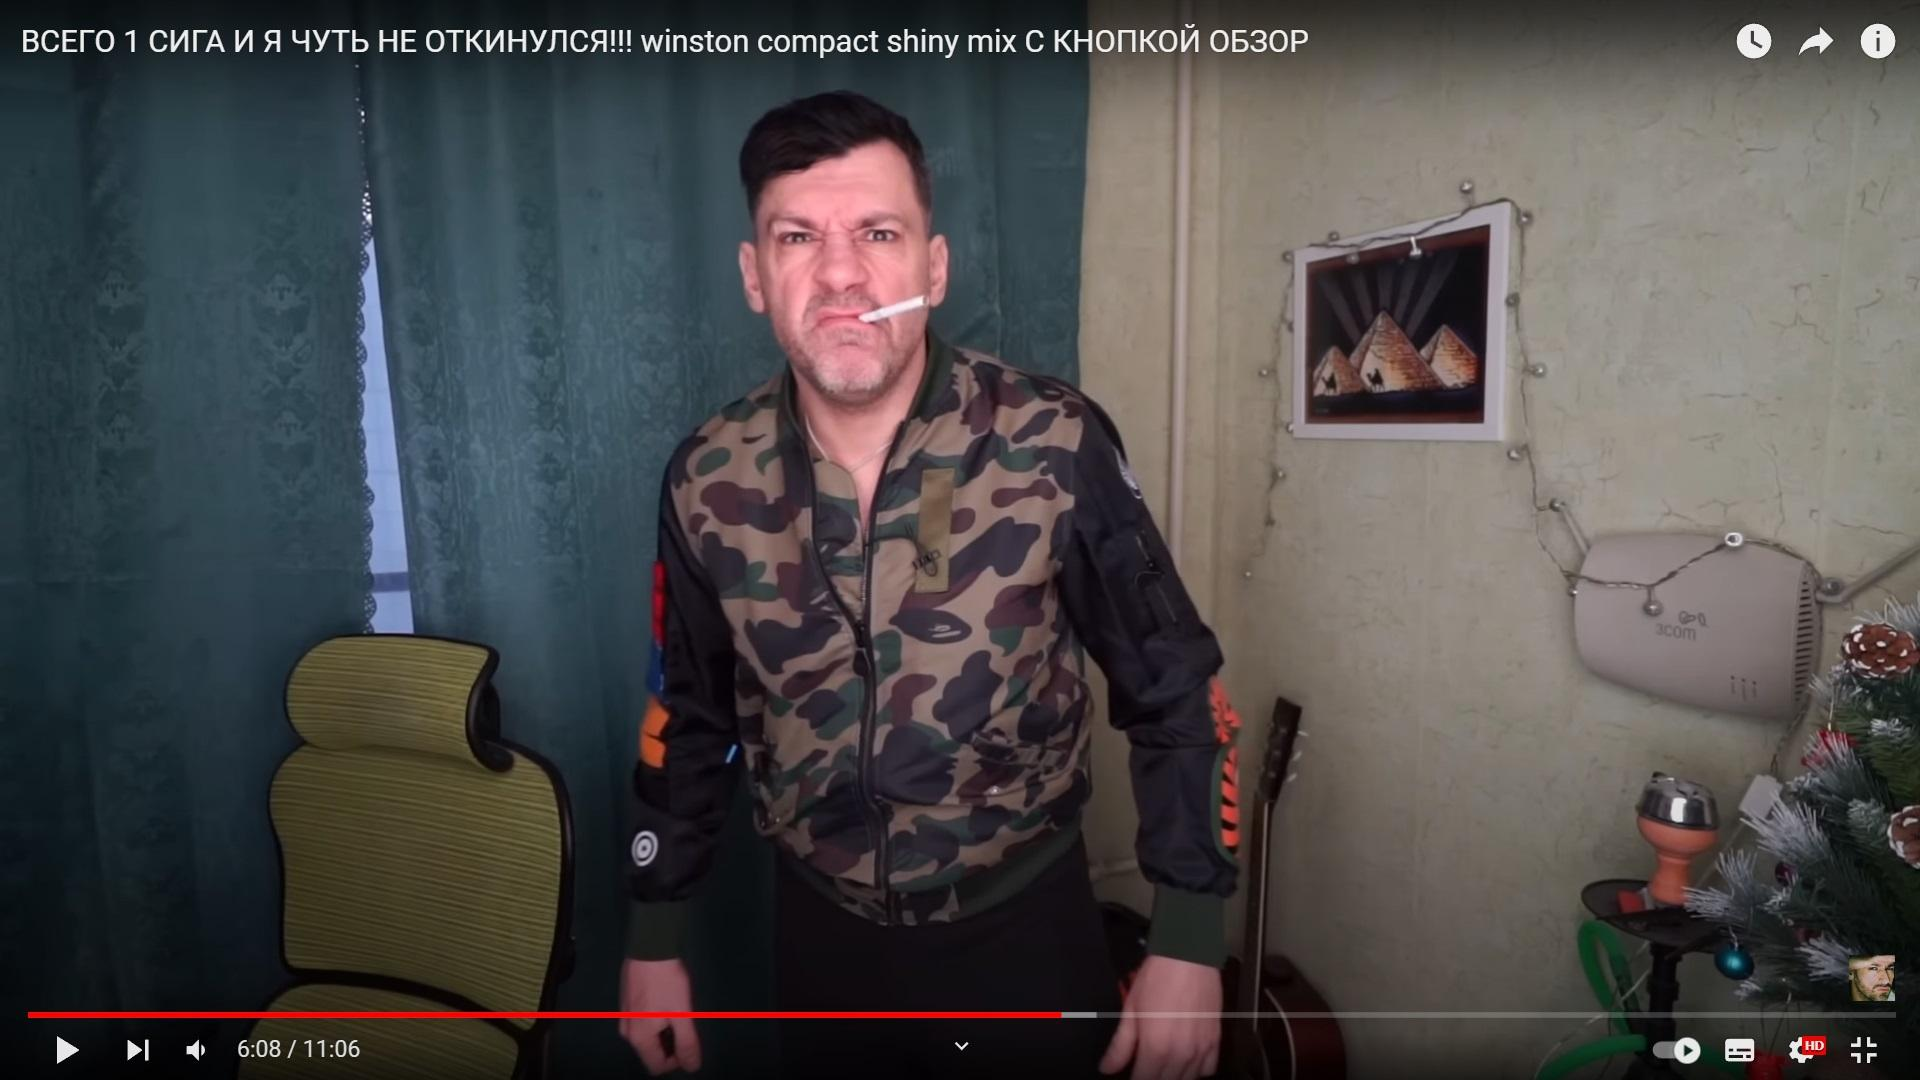cigarette: (858, 297, 926, 323)
